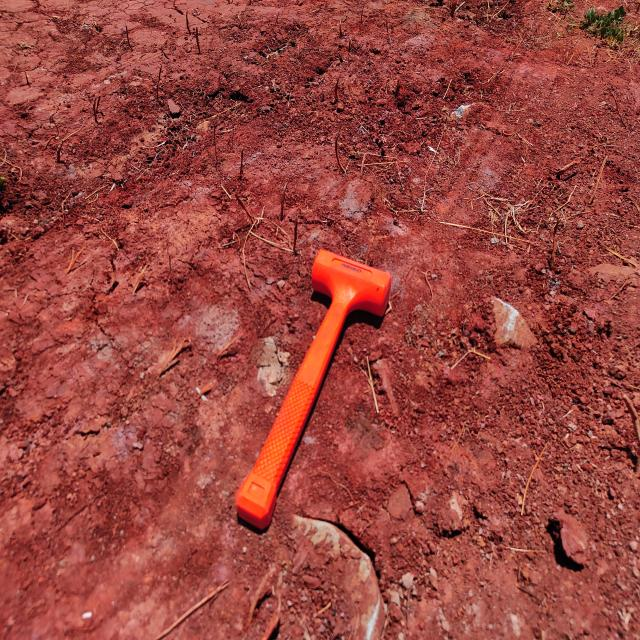Orange_hammer: (235, 247, 392, 531)
